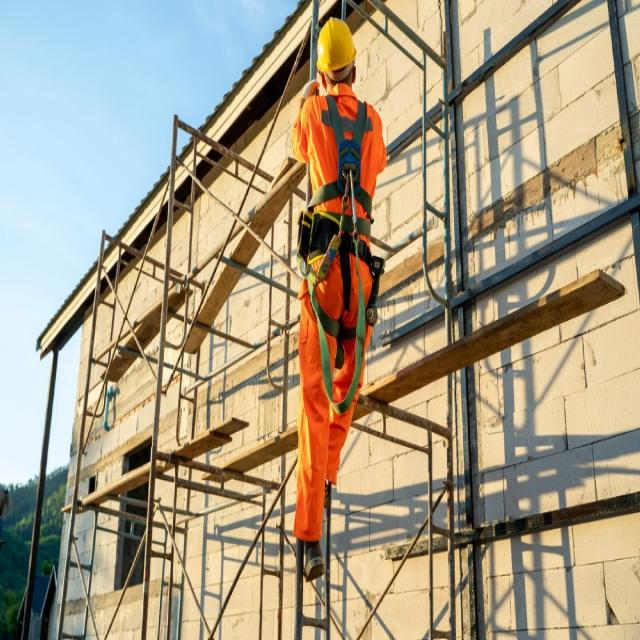harness: (306, 156, 367, 428)
